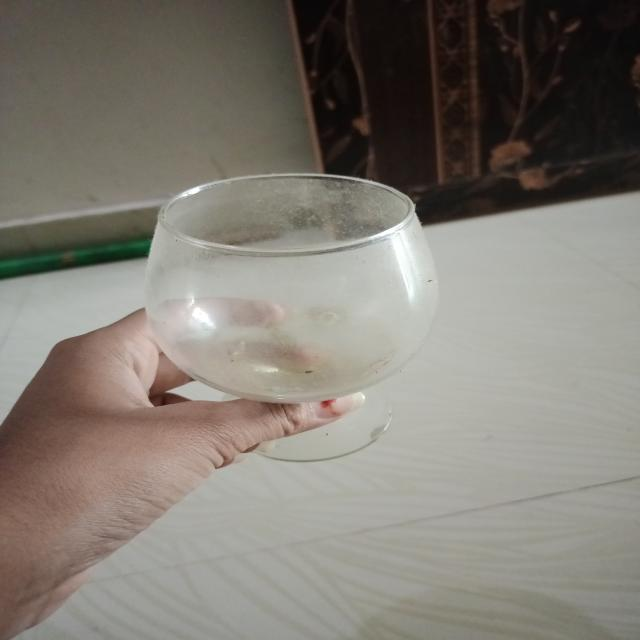Glass: (138, 168, 445, 466)
